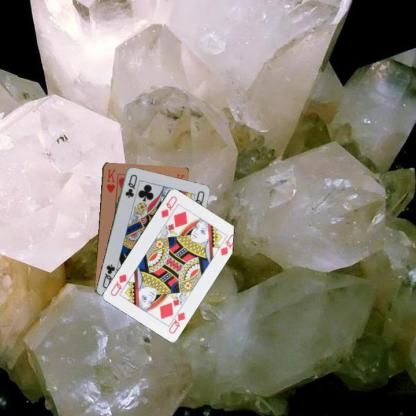Kh: (103, 167, 117, 194)
Qc: (123, 172, 138, 198)
Qd: (165, 305, 186, 335), (158, 193, 178, 219)
